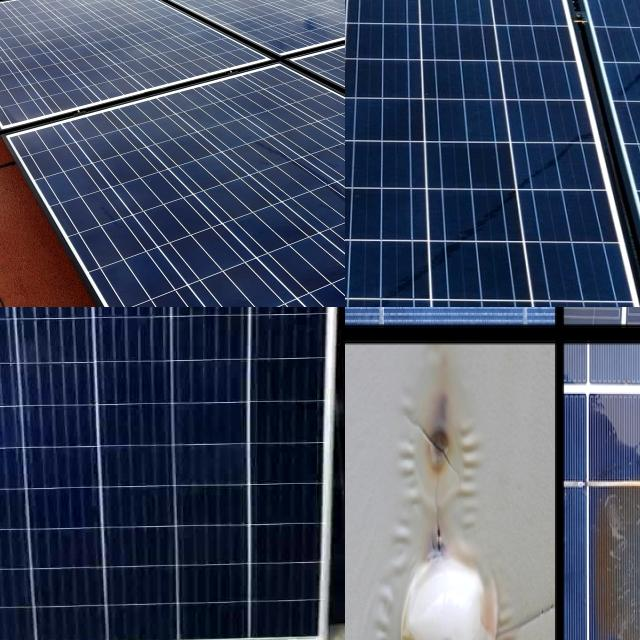crack: (0, 307, 345, 640), (345, 0, 640, 307), (0, 45, 345, 307), (0, 0, 279, 140), (100, 0, 345, 120), (345, 0, 640, 84), (271, 0, 345, 239), (345, 0, 471, 66)
shadow: (359, 307, 550, 404), (345, 341, 398, 640), (586, 442, 640, 640), (412, 392, 470, 508), (345, 307, 387, 400), (345, 549, 381, 640)
